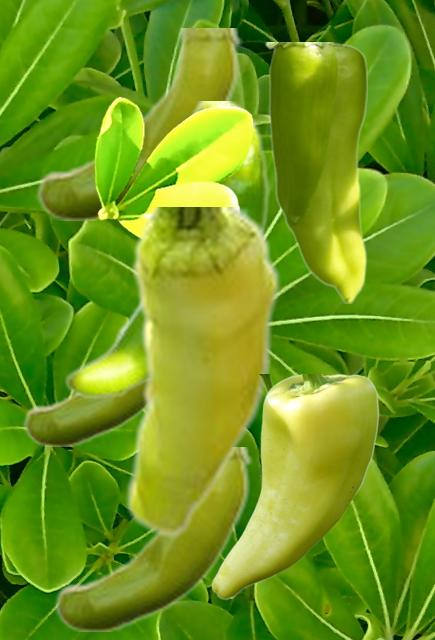green_chili: (63, 101, 269, 399), (124, 207, 280, 537), (35, 28, 241, 219), (211, 374, 378, 599), (53, 447, 251, 630), (264, 42, 366, 302), (22, 386, 142, 445)
